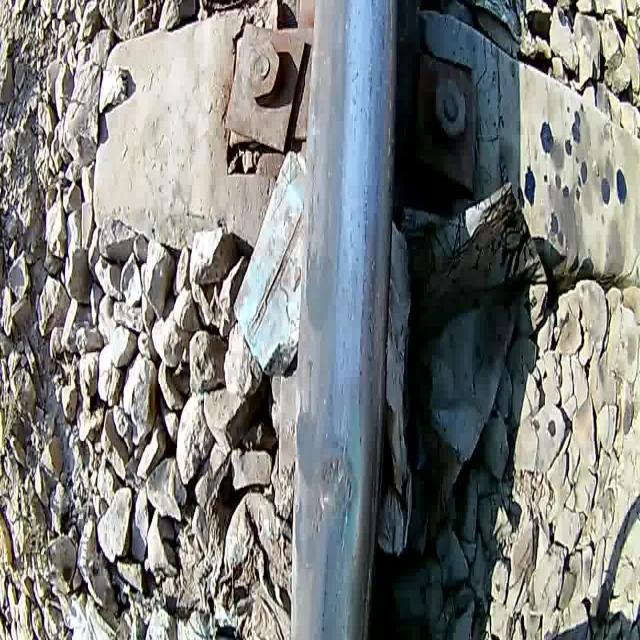Squats: (306, 441, 362, 558)
